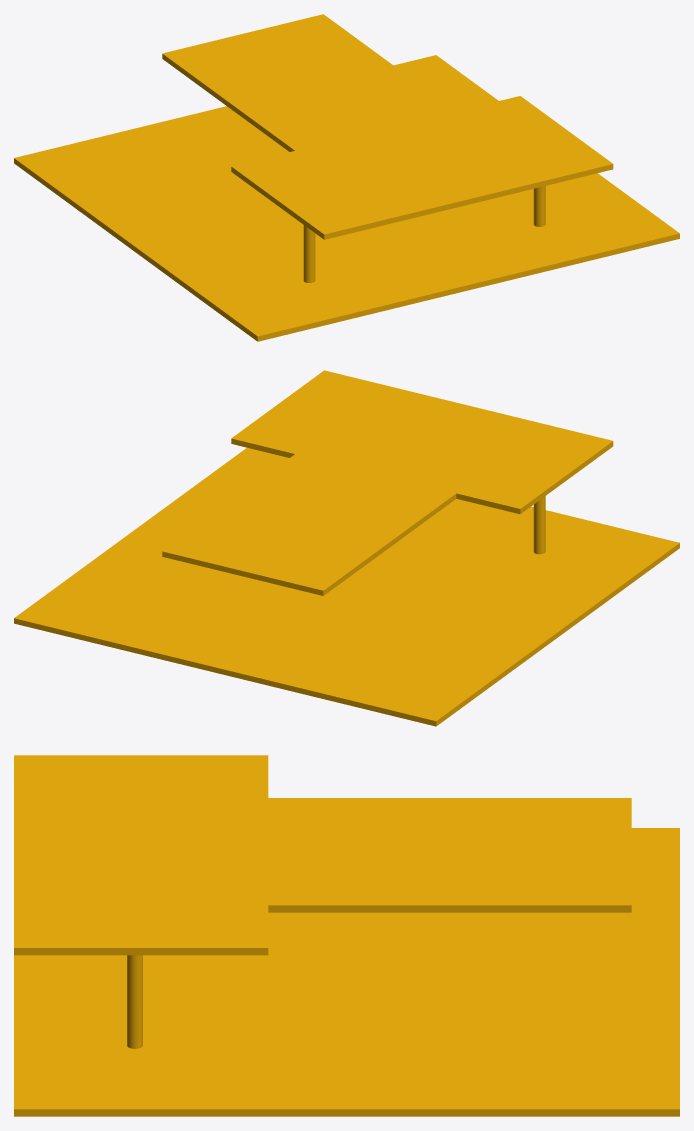
File: morlaChassis.dae
3 renders of one model, top to bottom at view 1: azimuth 30°, elevation 25°; view 2: azimuth 150°, elevation 25°; view 3: azimuth 270°, elevation 25°, orthographic. The views are drawn at different scales.
Parts seen in each view (by area): view 1: ID2; view 2: ID2; view 3: ID2.
Part boxes in pixels (x1=…): ID2: x1=14, y1=14, x2=679, y2=341; ID2: x1=14, y1=370, x2=679, y2=726; ID2: x1=14, y1=755, x2=679, y2=1116.
Bounding box in the file's own units: 0.165 × 0.165 × 0.034.
